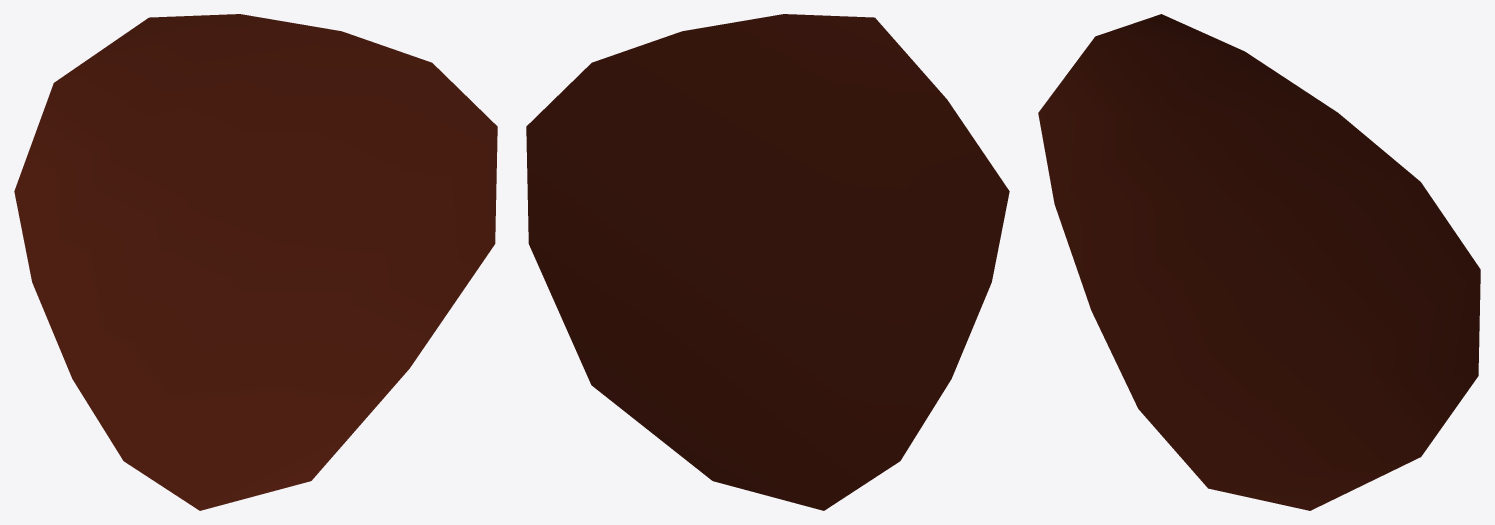
Rendered from finch_feather_flight_tertiary_060.obj.
3 views of the same model, side by side, from view 1: azimuth 30°, elevation 25°; view 2: azimuth 150°, elevation 25°; view 3: azimuth 330°, elevation 25° (orthographic). The views are drawn at different scales.
Visible parts, largest first — view 1: feather_flight_tertiary_060; view 2: feather_flight_tertiary_060; view 3: feather_flight_tertiary_060.
Part boxes in pixels (x1=…): feather_flight_tertiary_060: x1=14, y1=14, x2=497, y2=510; feather_flight_tertiary_060: x1=526, y1=14, x2=1009, y2=510; feather_flight_tertiary_060: x1=1038, y1=14, x2=1480, y2=510.
Size of the model in its own units: 0.00374 by 0.00374 by 0.000153.
